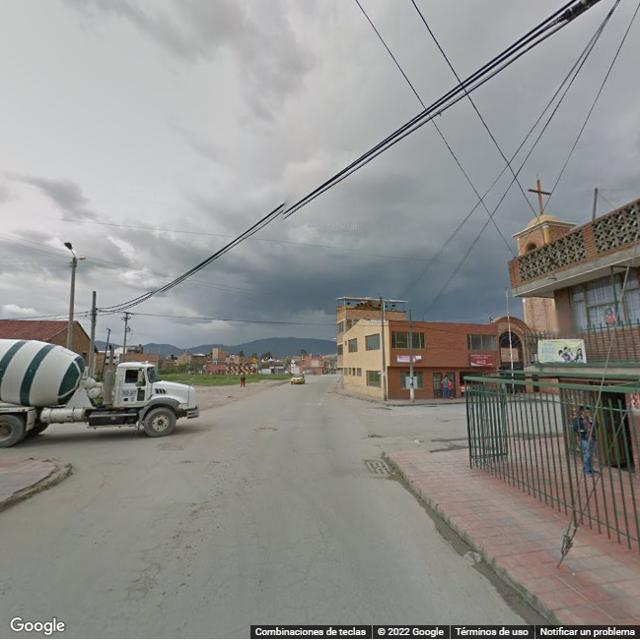D00: (155, 525, 191, 572), (302, 544, 321, 586)
D10: (263, 584, 304, 608)
